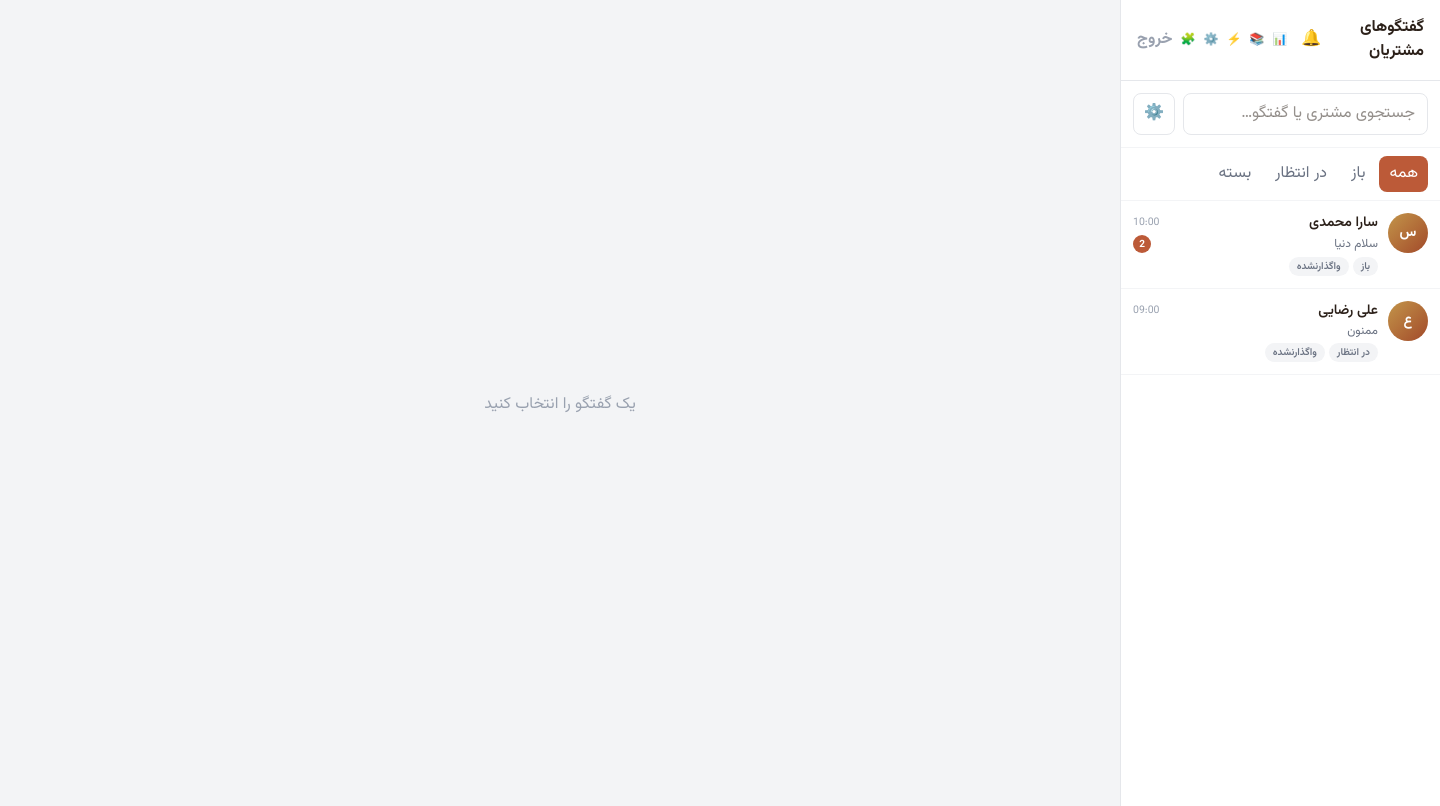
it: Operator dashboard — customer conversations page › shows the visitor's pre-chat answers (hidden page context flagged as unverified) and the verified-identity badge
This screenshot has width=1440, height=806.
Click the text "سارا محمدی": {"x": 1344, "y": 223} [1309,213,1378,233]
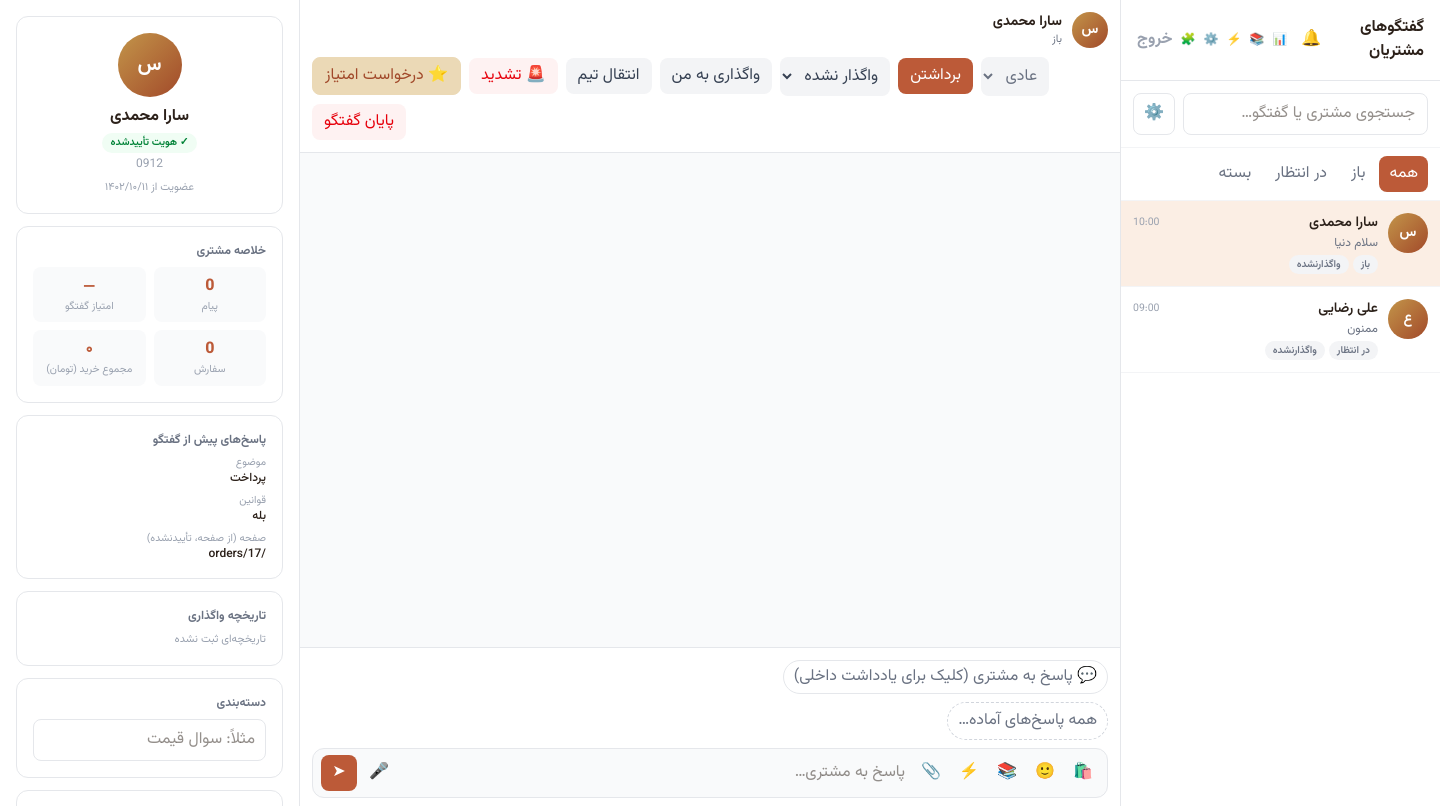
Now the element with test id "pre-chat-answers" shows "موضوع", box [236,454,266,471]
Now the element with test id "pre-chat-answers" shows "پرداخت", box [230,469,266,487]
Now the element with test id "pre-chat-answers" shows "بله", box [252,507,266,525]
